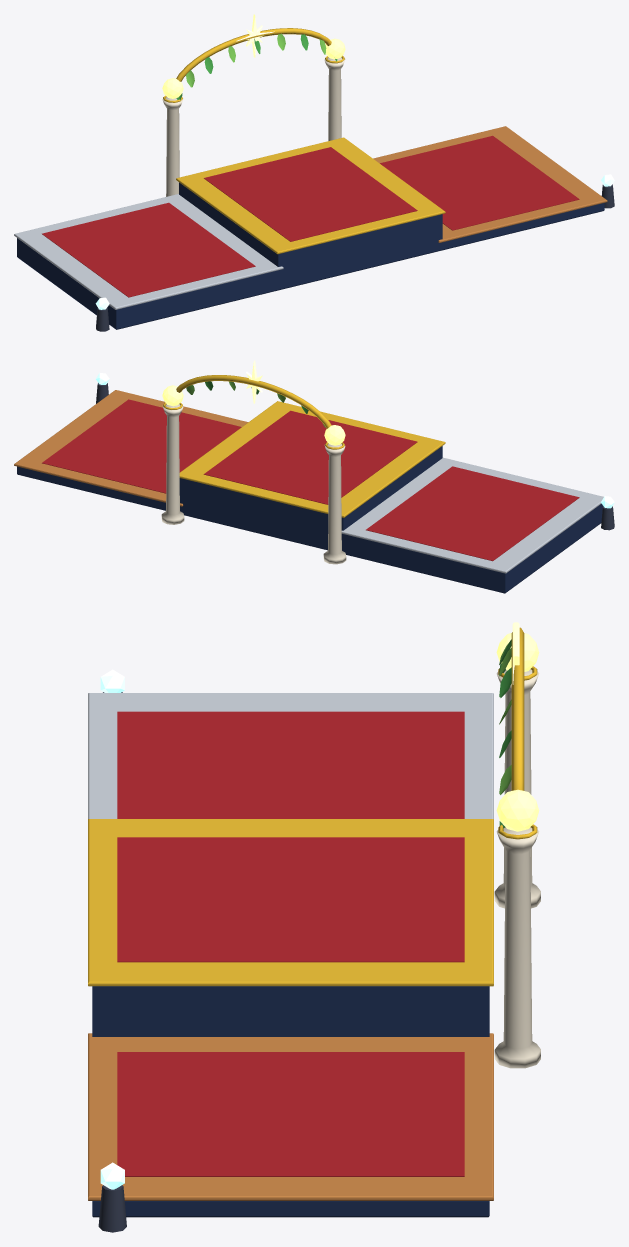
Rendered from podium.glb.
3 views of the same model, one above another, from view 1: azimuth 30°, elevation 25°; view 2: azimuth 150°, elevation 25°; view 3: azimuth 270°, elevation 25° (orthographic). The views are drawn at different scales.
Parts seen in each view (by area): view 1: podium_mesh; view 2: podium_mesh; view 3: podium_mesh.
Part boxes in pixels (x1=…): podium_mesh: x1=14, y1=14, x2=614, y2=331; podium_mesh: x1=14, y1=360, x2=614, y2=593; podium_mesh: x1=88, y1=622, x2=540, y2=1232.
Size of the model in its own units: 13.42 by 4.43 by 5.09.
